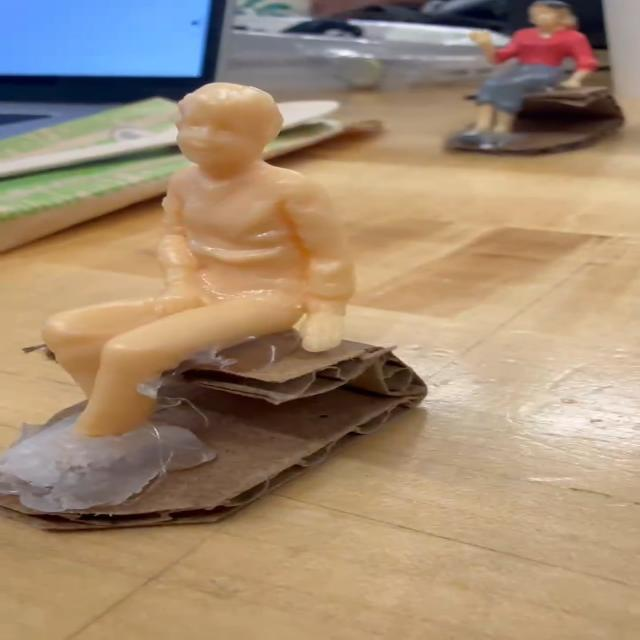Unauthorized: (11, 80, 402, 491)
